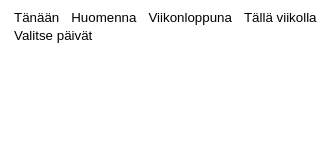
Test: should close date selector menu with escape
Click the button "Valitse päivät": (53, 36) top-left (8, 27), bottom-right (98, 44)
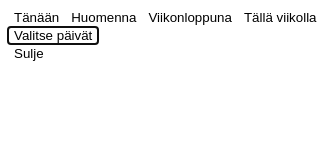
expect the element with test id "mobile-date-selector-menu" is shown: met, box top-left (8, 45), bottom-right (50, 62)
Press Escape
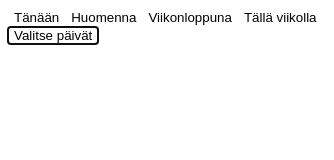
expect the element with test id "mobile-date-selector-menu" is gone: met
